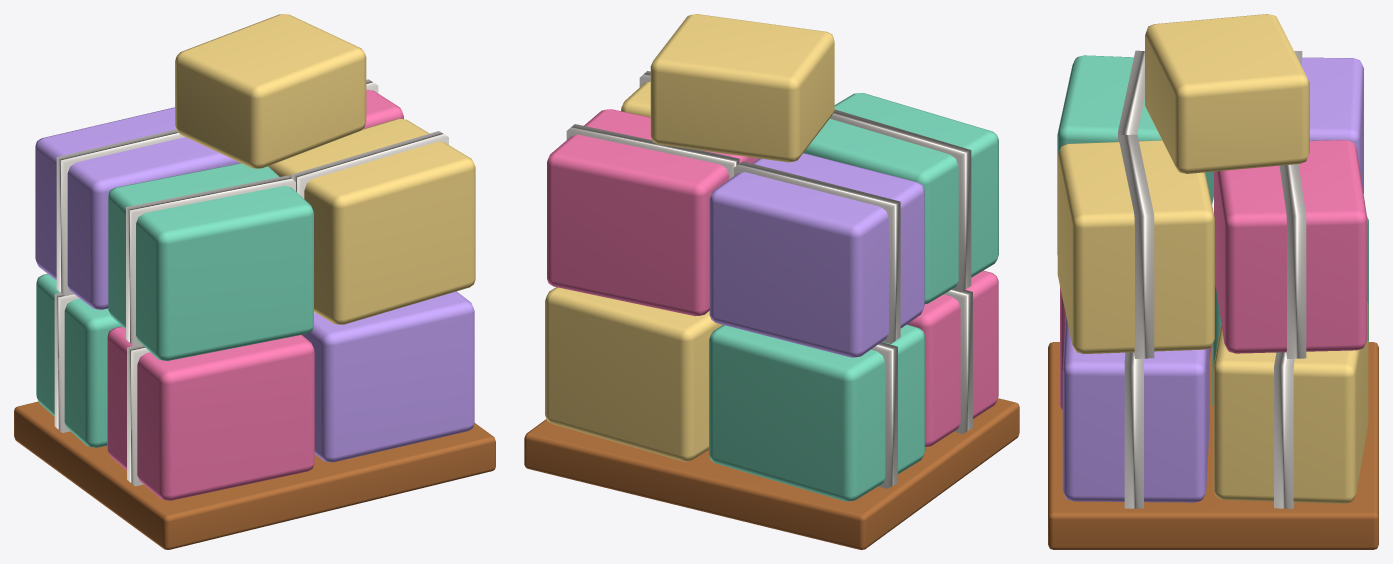
The model's file is candy_boxes.glb.
3 renders of one model, left to right at view 1: azimuth 30°, elevation 25°; view 2: azimuth 150°, elevation 25°; view 3: azimuth 270°, elevation 25°, orthographic. The views are drawn at different scales.
Visible parts, largest first — view 1: Boxes; view 2: Boxes; view 3: Boxes.
Part boxes in pixels (x1=…): Boxes: x1=14, y1=14, x2=495, y2=549; Boxes: x1=524, y1=14, x2=1019, y2=549; Boxes: x1=1048, y1=14, x2=1378, y2=549.
Size of the model in its own units: 1.5 by 1.71 by 1.2.
